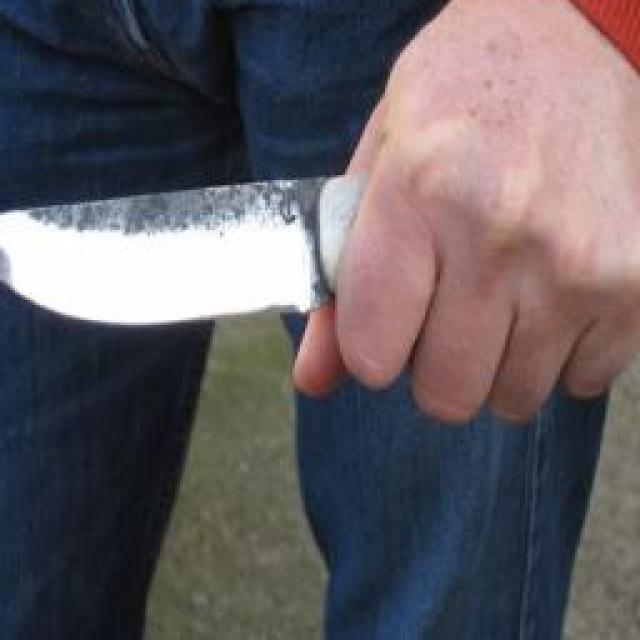knife: (0, 144, 563, 427)
